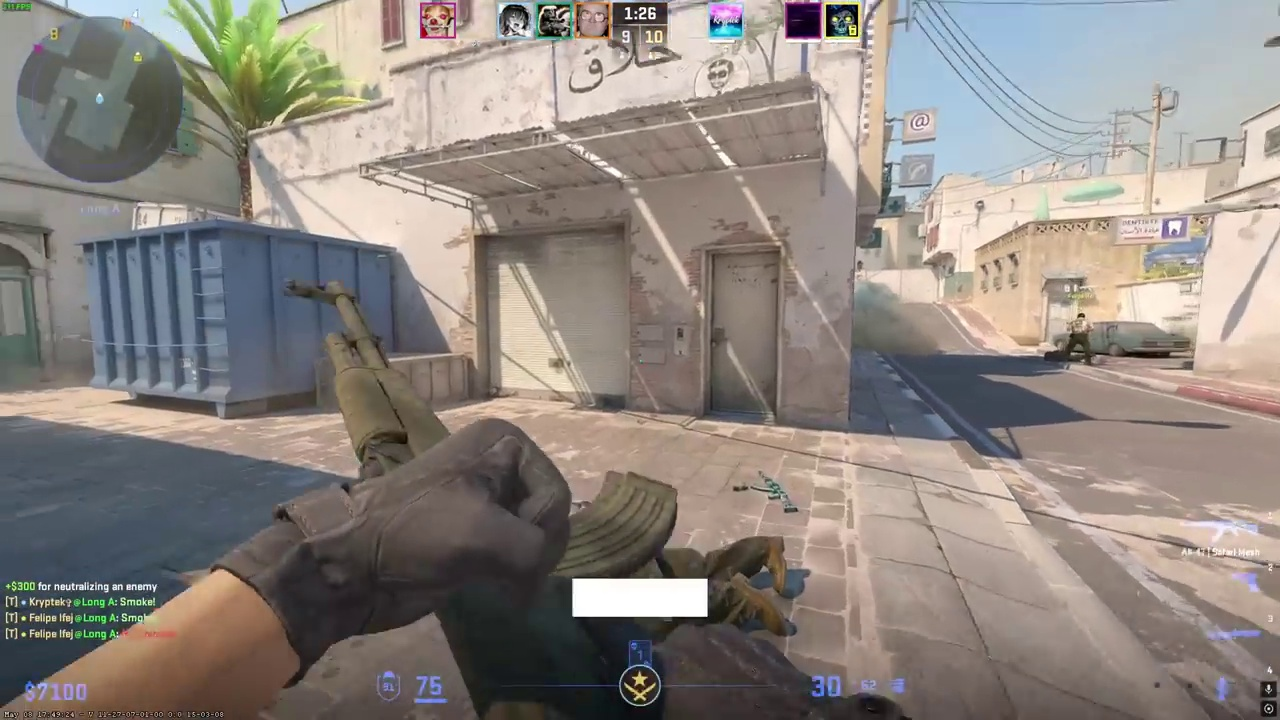Terrorist: (1064, 312, 1095, 367)
